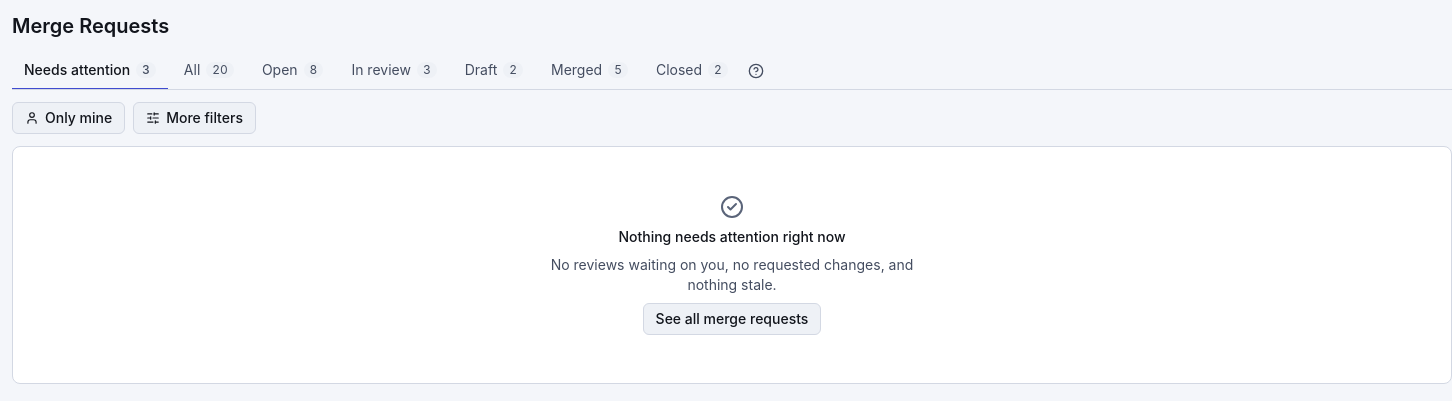
Test case: MergeRequestsPage › shows "Nothing needs attention right now" with a link to All
Expected: the heading "Nothing needs attention right now" is shown, top-left (618, 227), bottom-right (846, 247)
Click the button "See all merge requests" at (732, 319), box top-left (643, 303), bottom-right (821, 335)
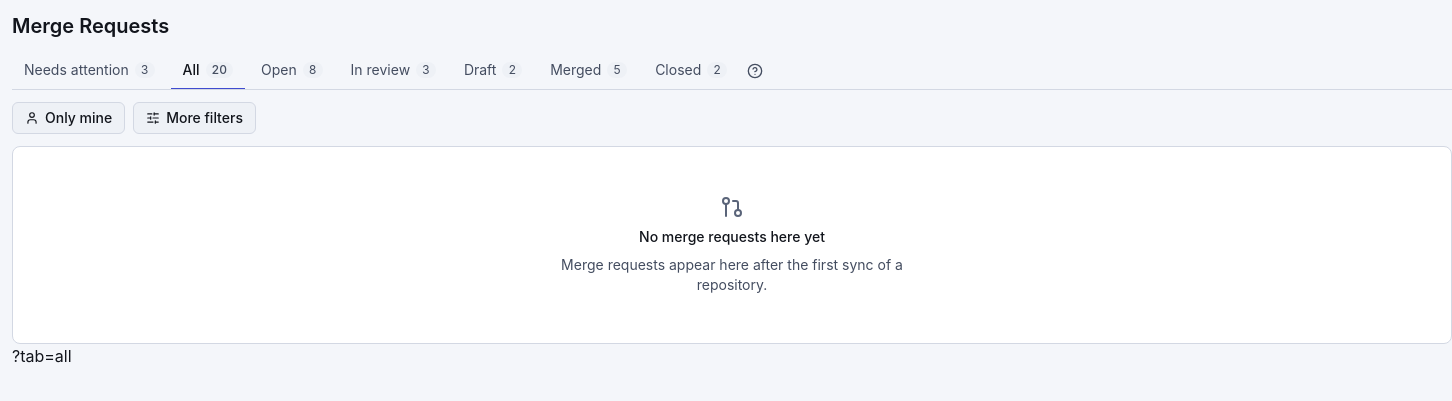
Now the text with test id "search" reads "?tab=all", box top-left (12, 346), bottom-right (72, 366)
